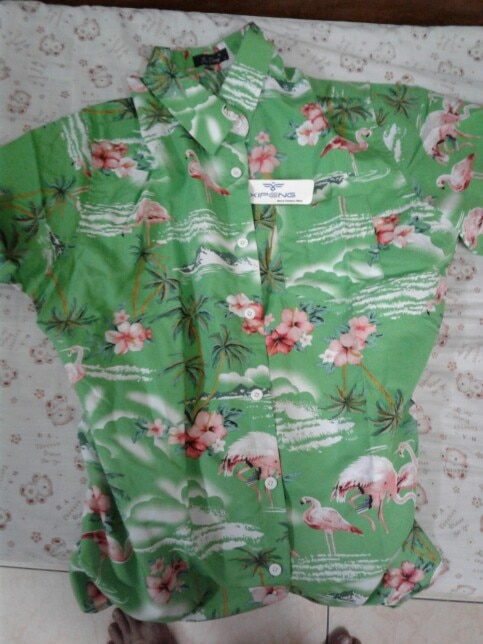shirts: (22, 27, 477, 626)
